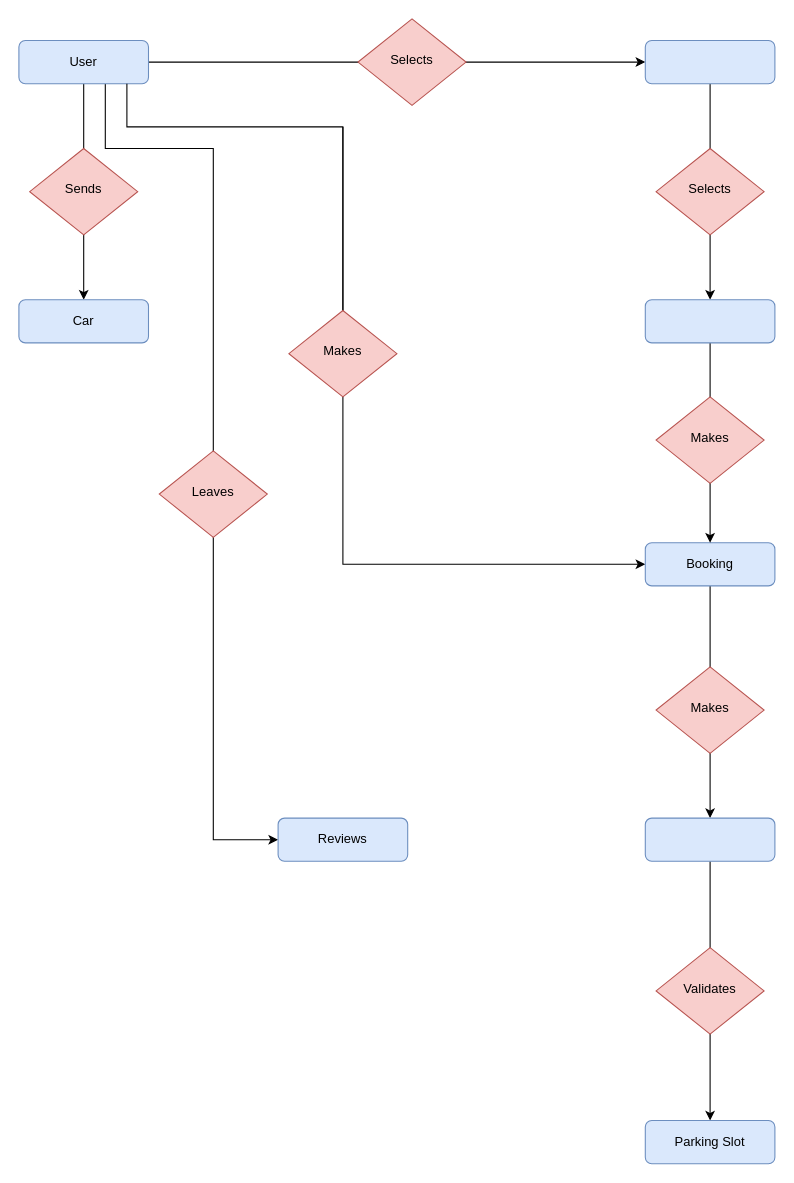
Some shapes in this 794 by 1183 pixel diagram are drawn without their labels. Here are the shapes that lost their labels. From the top down, the box of each, then its label:
(644, 39, 775, 84): Parking Location
(644, 299, 775, 343): Parking Space
(644, 817, 775, 861): Payment
